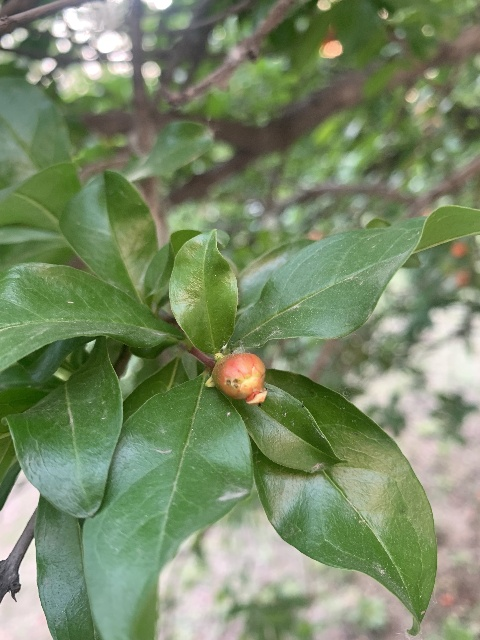bud: (215, 352, 266, 403)
